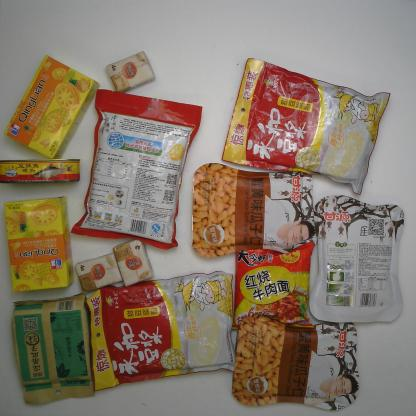Canned Food: (0, 158, 82, 186)
Dessert: (2, 54, 101, 160), (3, 194, 75, 294)
Dried Food: (8, 290, 97, 407)
Dried Fruit: (229, 314, 363, 412), (308, 194, 405, 324), (190, 162, 318, 258)
Instant Drink: (220, 56, 393, 196), (69, 88, 205, 252), (82, 271, 238, 394)
Instant Noodles: (230, 240, 315, 332)
Tissue: (104, 48, 157, 92), (112, 238, 156, 288), (74, 252, 124, 294)
